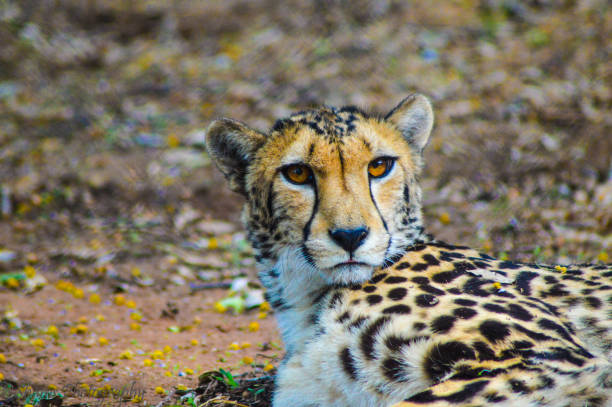cheetah: (191, 78, 459, 311)
